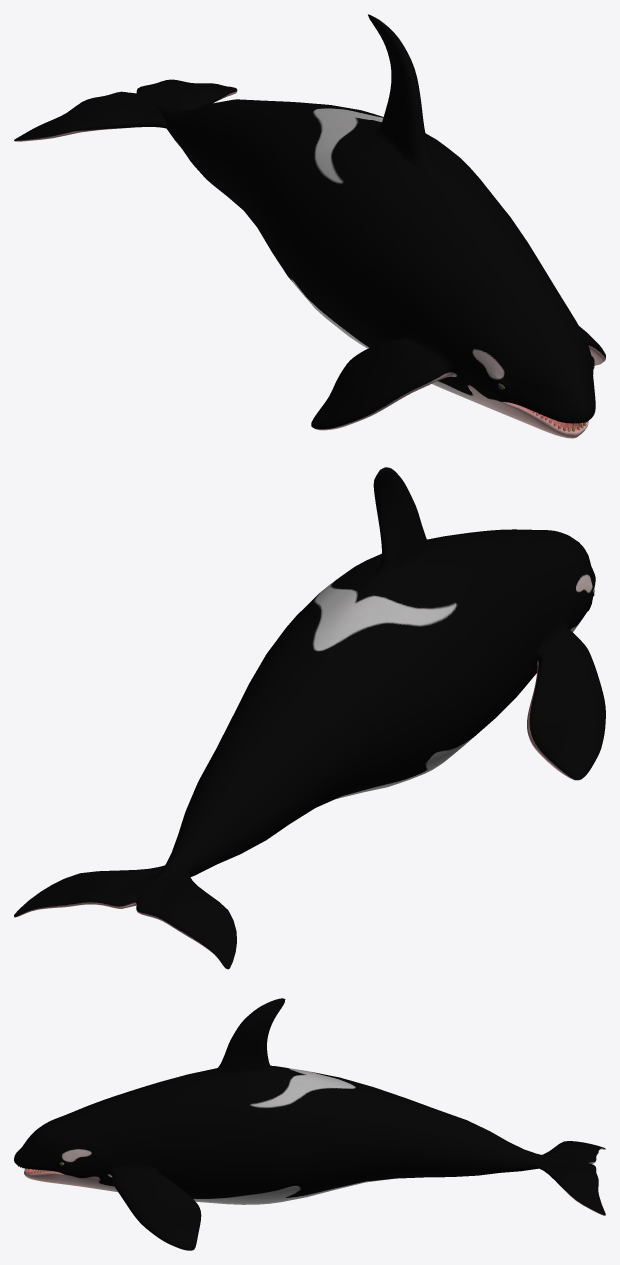
The model's file is orca-bought.original.glb.
3 renders of one model, top to bottom at view 1: azimuth 30°, elevation 25°; view 2: azimuth 150°, elevation 25°; view 3: azimuth 270°, elevation 25°, orthographic. The views are drawn at different scales.
Visible parts, largest first — view 1: MS_Orca; view 2: MS_Orca; view 3: MS_Orca.
Boxes of the visible parts, x1,y1,x2,y2 form: MS_Orca: [14, 14, 605, 438]; MS_Orca: [14, 467, 605, 969]; MS_Orca: [14, 998, 605, 1250].
Size of the model in its own units: 1.67 by 1.92 by 4.93.
Materials: 1 (1 with a texture image).
